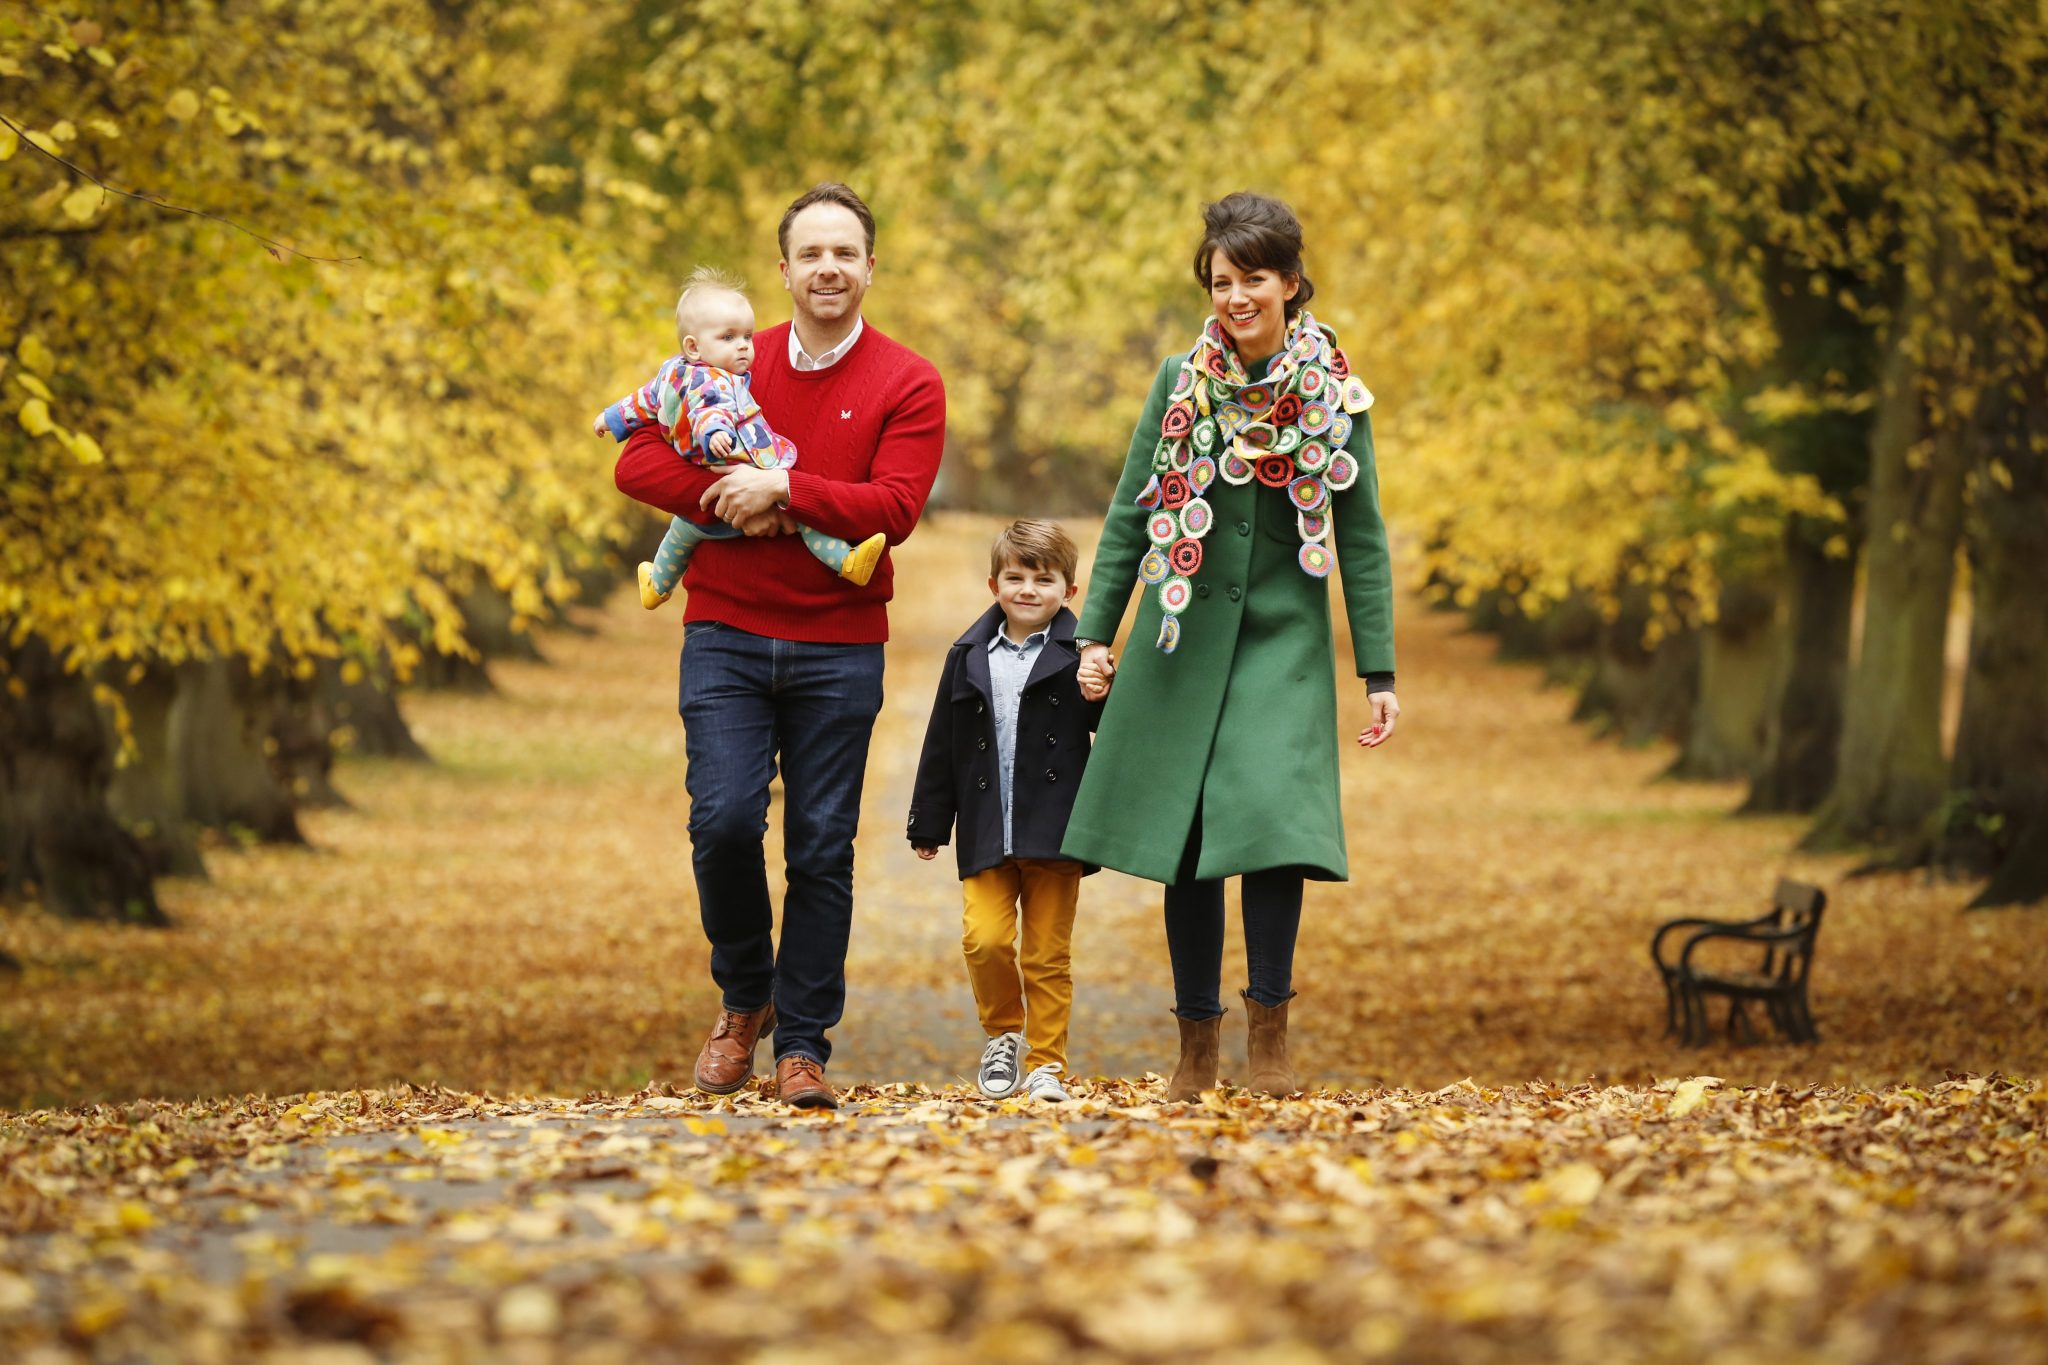Person: (1124, 222, 1404, 1022), (664, 192, 894, 1112), (934, 512, 1124, 1042)
